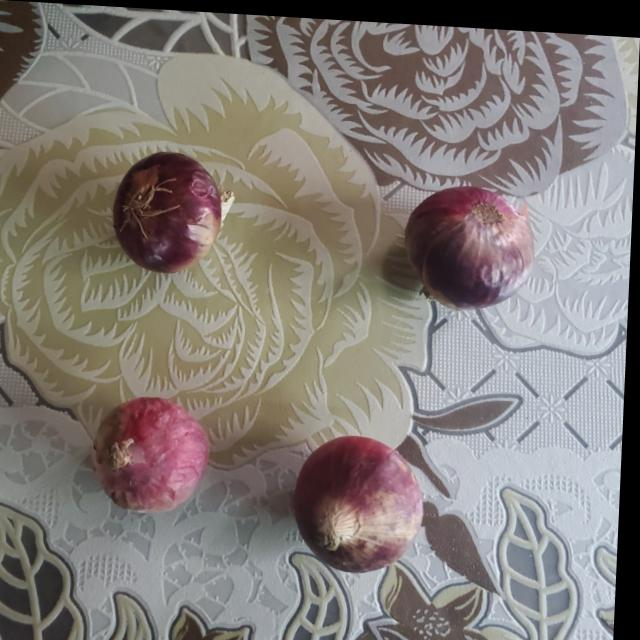onion: (295, 424, 434, 572), (405, 180, 537, 308), (115, 147, 227, 273), (98, 392, 213, 510)
